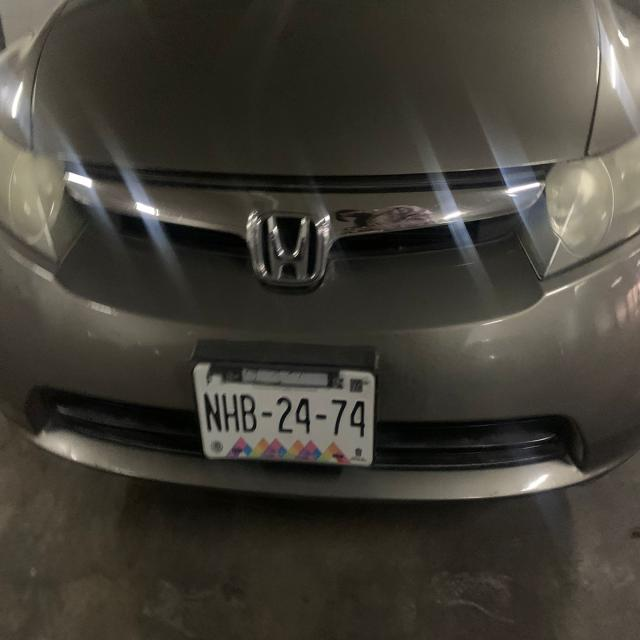placa: (198, 384, 371, 444)
